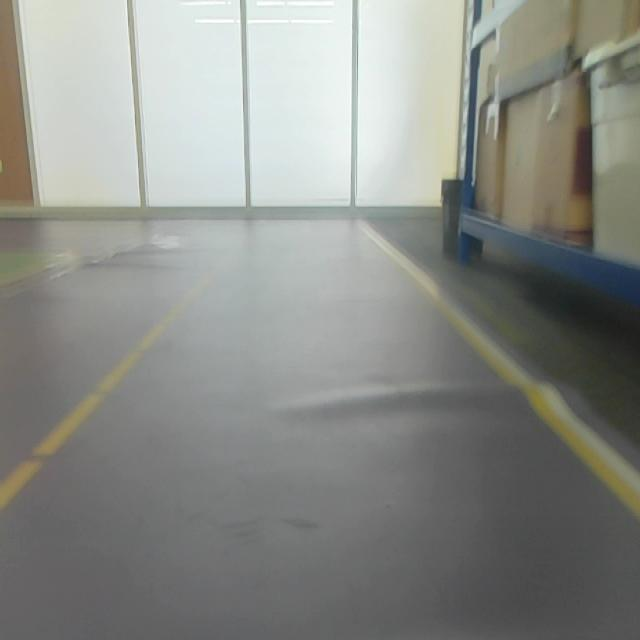left_lane: (0, 268, 211, 513)
right_lane: (364, 225, 640, 519)
